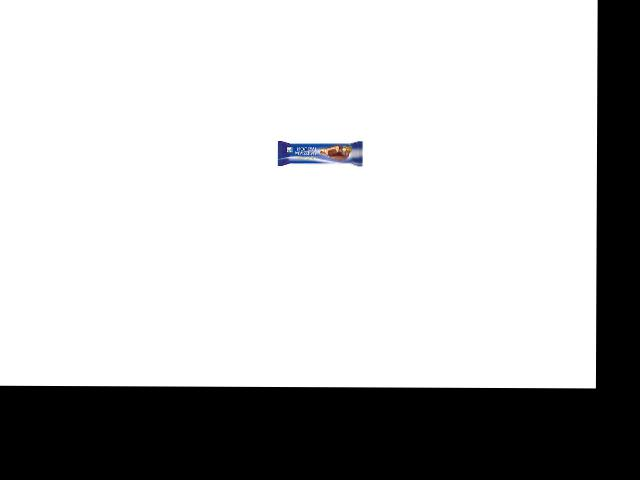chocolate: (275, 132, 374, 167)
